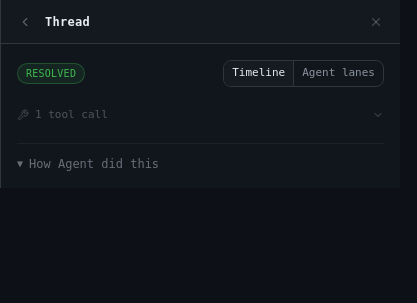
Test: ThreadDetail — consult_agent card › renders the answer content from a consult_agent result
The width and height of the screenshot is (417, 303).
Click the button "1 tool call" at coordinates (71, 114), box left=17, top=102, right=384, bottom=127
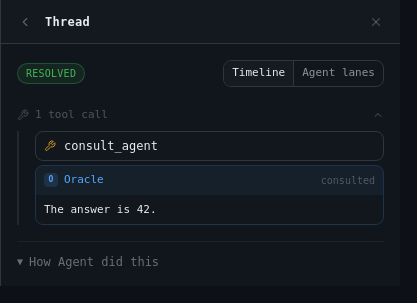
expect the text "42" is shown: met, box left=44, top=202, right=157, bottom=216
